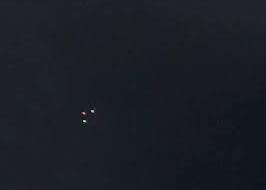Plane: (65, 100, 109, 128)
